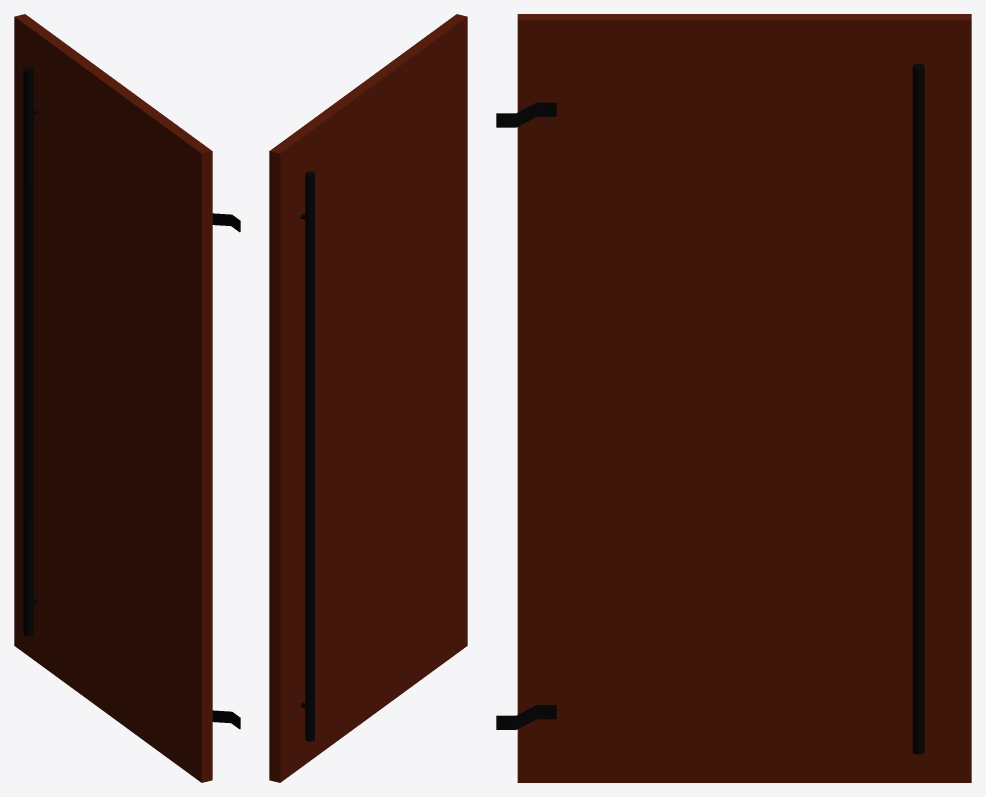
The model's file is Doorlinks.FBX.
3 renders of one model, left to right at view 1: azimuth 30°, elevation 25°; view 2: azimuth 150°, elevation 25°; view 3: azimuth 270°, elevation 25°, orthographic. The views are drawn at different scales.
Parts seen in each view (by area): view 1: Box036, Cylinder022; view 2: Box036, Cylinder022; view 3: Box036, Cylinder025, Box128, Box129.
Boxes of the visible parts, bbox=[...] form: Box036: bbox=[14, 14, 212, 782]; Cylinder022: bbox=[23, 66, 33, 636]; Box036: bbox=[269, 14, 467, 782]; Cylinder022: bbox=[305, 171, 314, 741]; Box036: bbox=[517, 14, 971, 782]; Cylinder025: bbox=[912, 63, 924, 754]; Box128: bbox=[496, 102, 556, 127]; Box129: bbox=[496, 705, 556, 729].
Bounding box in the file's own units: 19.58 × 278 × 157.
